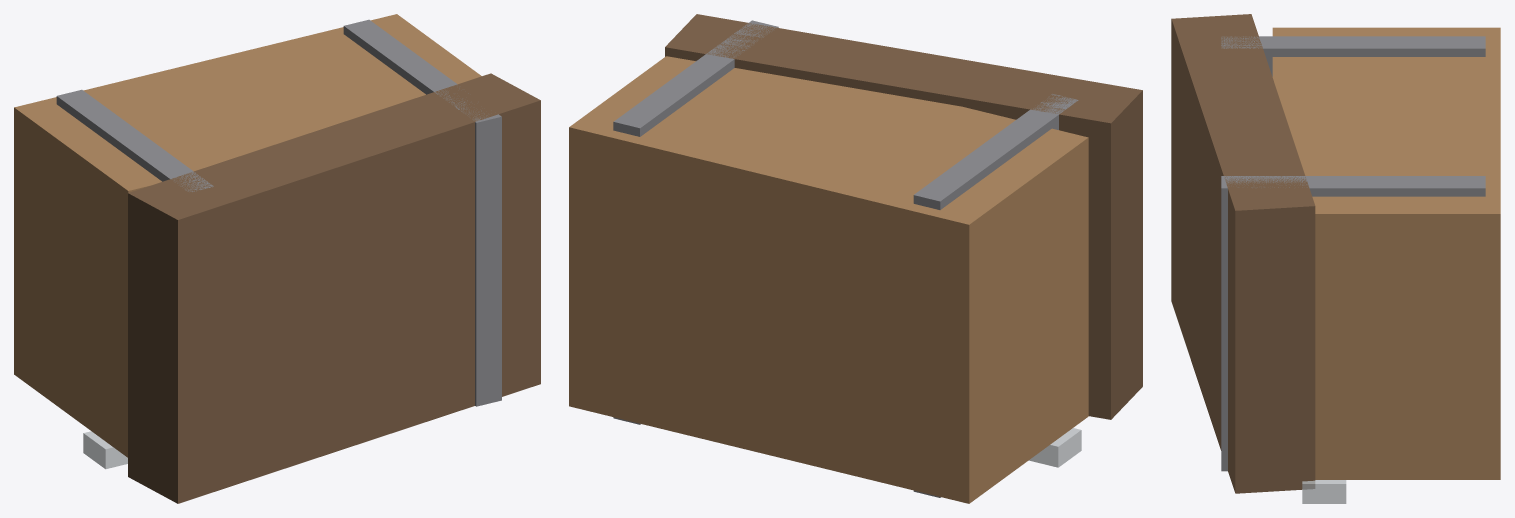
File: loot_chest_common.glb
3 views of the same model, side by side, from view 1: azimuth 30°, elevation 25°; view 2: azimuth 150°, elevation 25°; view 3: azimuth 270°, elevation 25° (orthographic). The views are drawn at different scales.
Visible parts, largest first — view 1: lid, chest_body, side_band_r, side_band_l, front_band; view 2: chest_body, lid, side_band_l, side_band_r, front_band; view 3: chest_body, lid, side_band_r, side_band_l, front_band.
Boxes of the visible parts, x1,y1,x2,y2 form: lid: [128, 73, 540, 503]; chest_body: [14, 14, 481, 457]; side_band_r: [343, 19, 501, 406]; side_band_l: [56, 89, 213, 191]; front_band: [83, 431, 127, 469]; chest_body: [569, 56, 1088, 503]; lid: [665, 14, 1142, 419]; side_band_l: [913, 94, 1078, 497]; side_band_r: [613, 20, 778, 424]; front_band: [1029, 428, 1081, 467]; chest_body: [1272, 27, 1500, 479]; lid: [1171, 14, 1315, 493]; side_band_r: [1221, 176, 1485, 471]; side_band_l: [1221, 36, 1485, 76]; front_band: [1302, 480, 1346, 503].
Bounding box in the file's own units: 1.27 × 0.915 × 0.8959.
